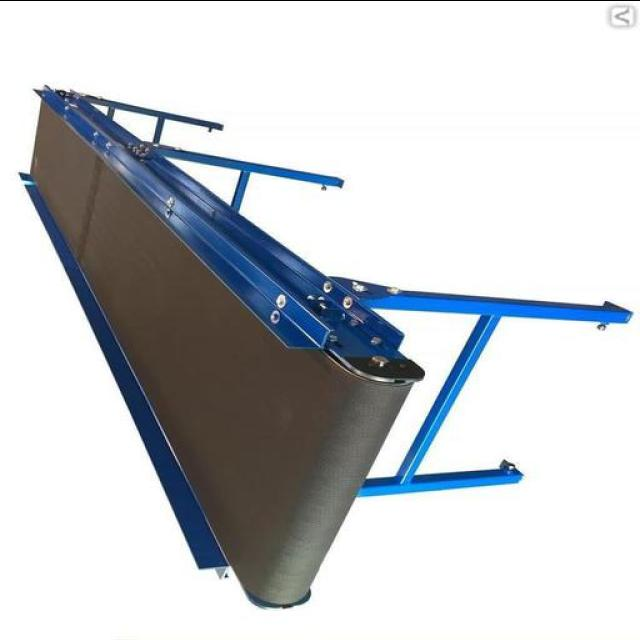conveyor: (24, 93, 368, 608)
